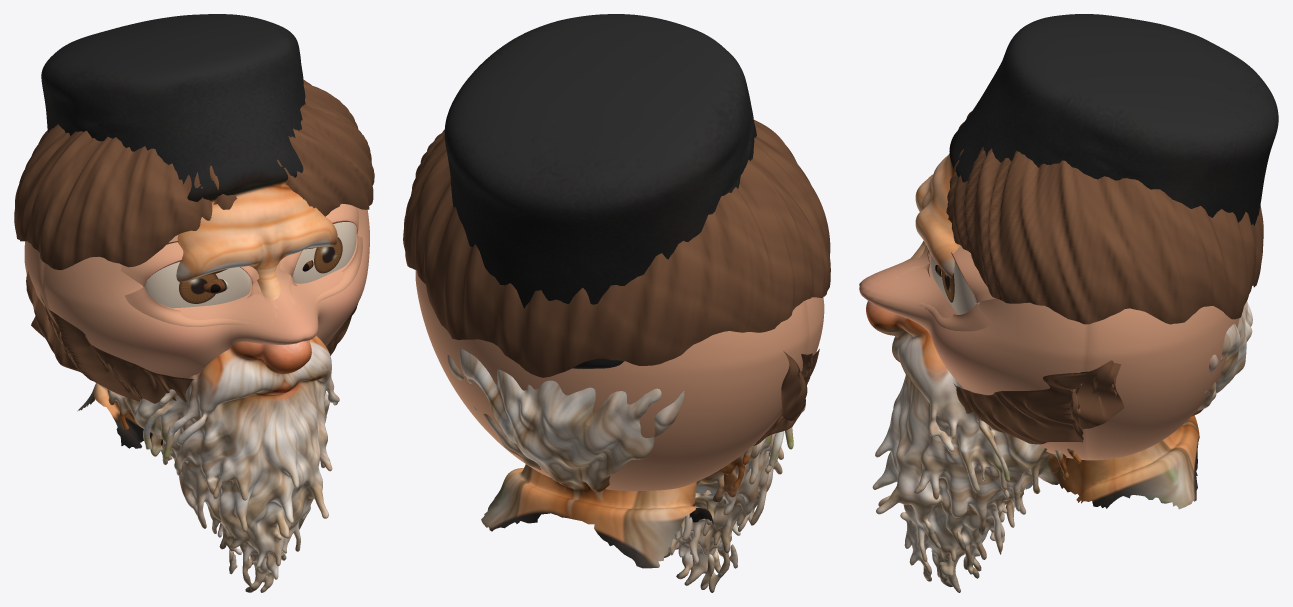
The model's file is ioan-colov.glb.
3 views of the same model, side by side, from view 1: azimuth 30°, elevation 25°; view 2: azimuth 150°, elevation 25°; view 3: azimuth 270°, elevation 25° (orthographic). The views are drawn at different scales.
Visible parts, largest first — view 1: Călugăr ortodox bătrân, Păr scurt pieptănat, Ioan · față rotundă, Barbă castanie, scurtă, Scleră sculptată -1, Pleoapă inferioară -1, Scleră sculptată 1, Pleoapă superioară -1, Pleoapă inferioară 1, Pleoapă superioară 1, Iris căprui -1, Iris căprui 1; view 2: Călugăr ortodox bătrân, Păr scurt pieptănat, Ioan · față rotundă, Barbă castanie, scurtă; view 3: Călugăr ortodox bătrân, Păr scurt pieptănat, Ioan · față rotundă, Barbă castanie, scurtă, Pleoapă inferioară 1, Scleră sculptată 1, Pleoapă superioară 1.
Boxes of the visible parts, <box> form: Călugăr ortodox bătrân: <box>41,14,339,592</box>; Păr scurt pieptănat: <box>14,79,374,269</box>; Ioan · față rotundă: <box>24,208,369,397</box>; Barbă castanie, scurtă: <box>26,271,357,403</box>; Scleră sculptată -1: <box>143,261,250,308</box>; Pleoapă inferioară -1: <box>125,286,277,326</box>; Scleră sculptată 1: <box>291,222,356,283</box>; Pleoapă superioară -1: <box>121,242,259,285</box>; Pleoapă inferioară 1: <box>289,235,362,308</box>; Pleoapă superioară 1: <box>279,203,358,275</box>; Iris căprui -1: <box>179,273,218,303</box>; Iris căprui 1: <box>314,237,342,273</box>; Călugăr ortodox bătrân: <box>444,14,805,592</box>; Păr scurt pieptănat: <box>403,120,830,377</box>; Ioan · față rotundă: <box>415,270,824,490</box>; Barbă castanie, scurtă: <box>753,349,819,445</box>; Călugăr ortodox bătrân: <box>866,14,1278,592</box>; Păr scurt pieptănat: <box>946,111,1263,324</box>; Ioan · față rotundă: <box>859,245,1239,460</box>; Barbă castanie, scurtă: <box>953,360,1124,444</box>; Pleoapă inferioară 1: <box>894,263,991,331</box>; Scleră sculptată 1: <box>930,255,979,314</box>; Pleoapă superioară 1: <box>928,246,995,302</box>.
Bounding box in the file's own units: 1.18 × 1.73 × 1.2.
15 materials, 2 textured.
